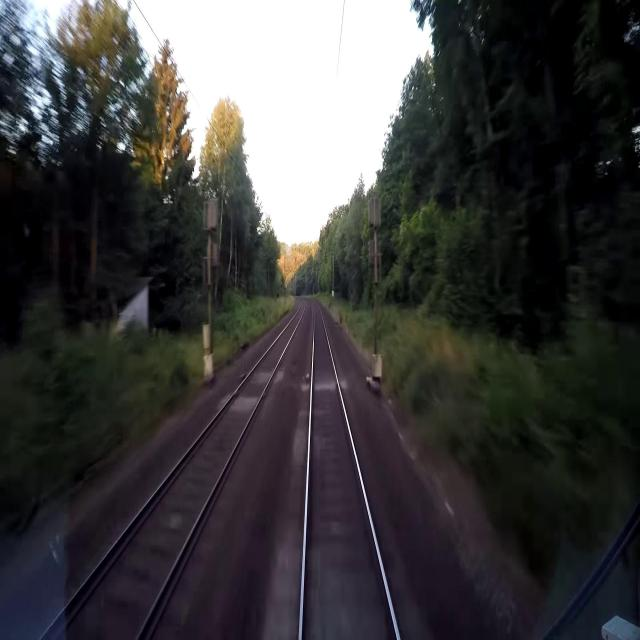rail-track: (44, 297, 304, 639), (304, 299, 396, 639)
